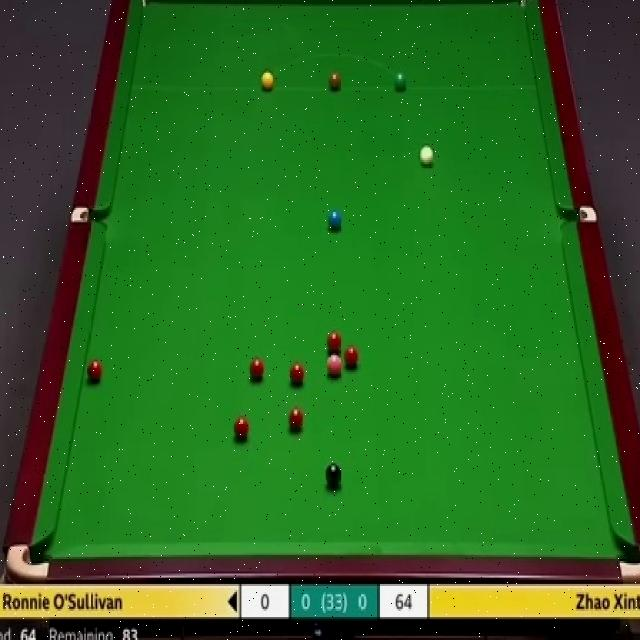black-ball: (326, 463, 342, 486)
blue-ball: (327, 208, 342, 230)
brown-ball: (328, 72, 342, 91)
green-ball: (393, 70, 407, 92)
pink-ball: (326, 354, 343, 379)
red-ball: (232, 415, 250, 440), (288, 362, 306, 386), (287, 408, 304, 433), (344, 345, 359, 370), (87, 360, 104, 382), (326, 330, 342, 353), (250, 357, 264, 382)
white-ball: (420, 144, 434, 168)
yellow-ball: (260, 68, 274, 90)
